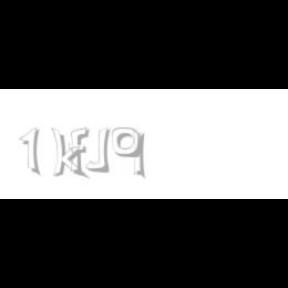1: (19, 128, 41, 176)
I: (134, 128, 146, 180)
J: (84, 128, 110, 172)
f: (69, 128, 93, 174)
k: (51, 128, 89, 180)
o: (112, 128, 140, 158)
